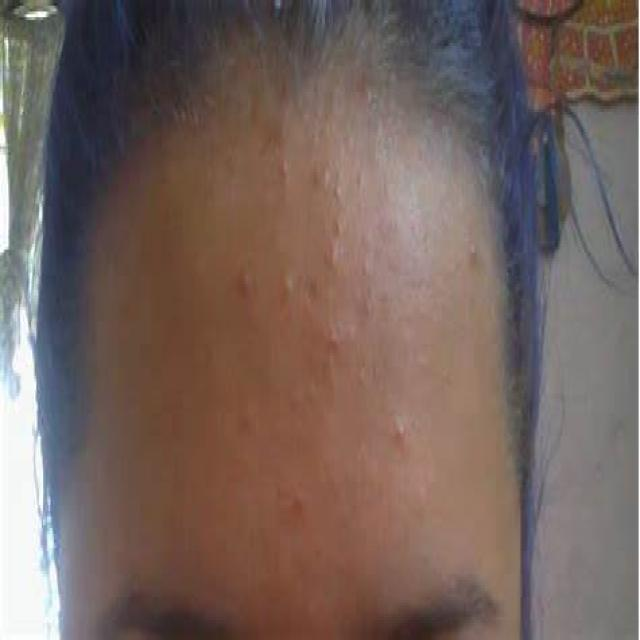fungal: (228, 130, 483, 538)
